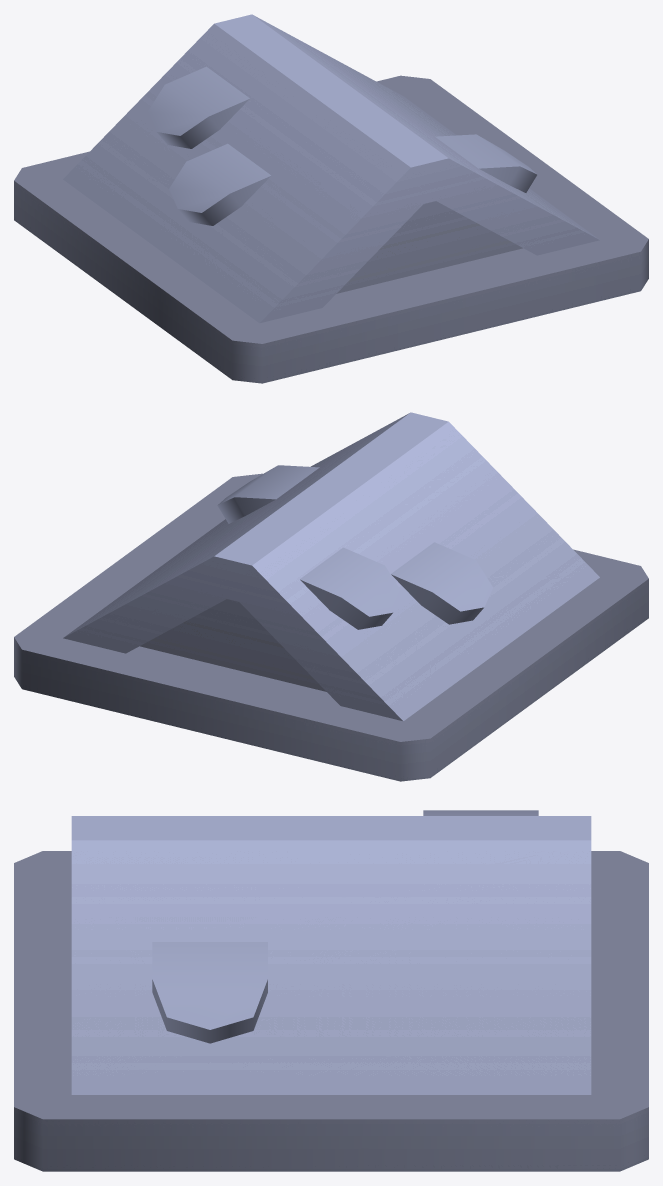
File: crypt-small-roof.glb
3 views of the same model, one above another, from view 1: azimuth 30°, elevation 25°; view 2: azimuth 150°, elevation 25°; view 3: azimuth 270°, elevation 25° (orthographic). The views are drawn at different scales.
Visible parts, largest first — view 1: crypt-small-roof; view 2: crypt-small-roof; view 3: crypt-small-roof.
Boxes of the visible parts, x1,y1,x2,y2 form: crypt-small-roof: (14, 14, 648, 383); crypt-small-roof: (14, 412, 648, 781); crypt-small-roof: (14, 810, 648, 1171).
Bounding box in the file's own units: 3.3 × 1.2 × 3.3.
Materials: 1 (1 with a texture image).
